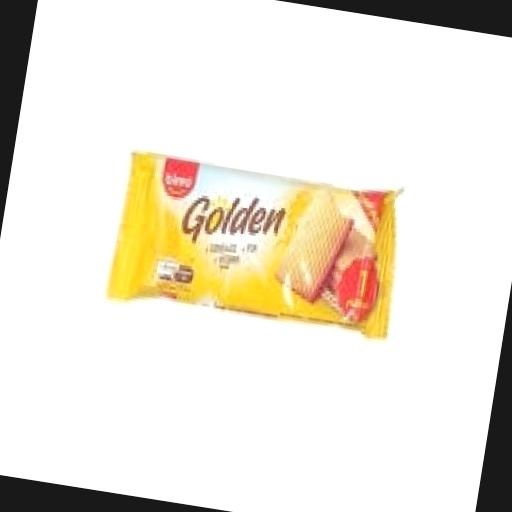golden: (84, 122, 436, 410)
